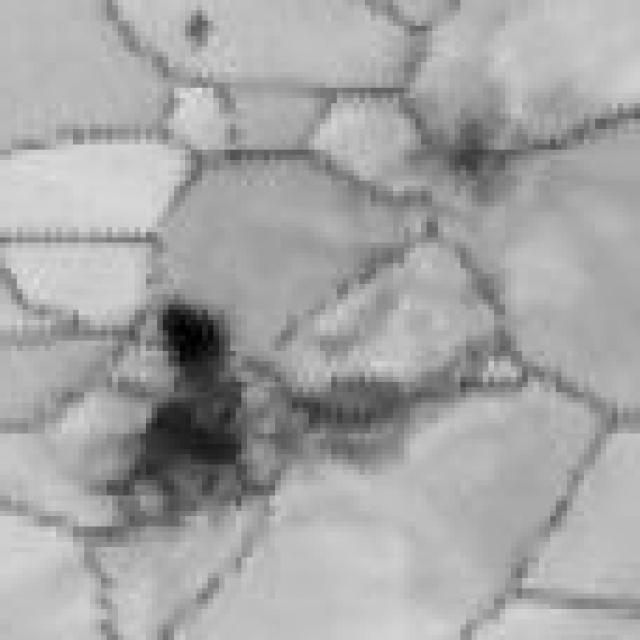good_void: (146, 310, 241, 501), (449, 124, 505, 201), (191, 10, 213, 52)
